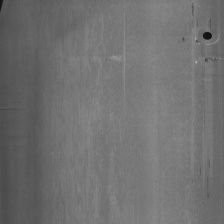punching_hole: (201, 27, 213, 41)
